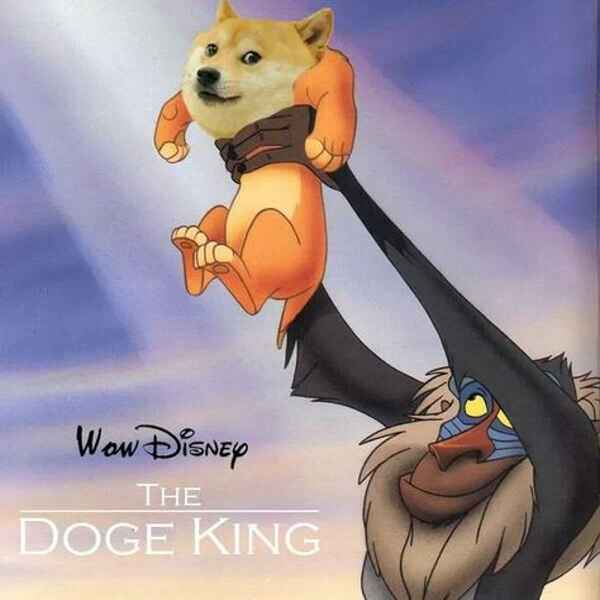doge: (183, 5, 331, 134)
